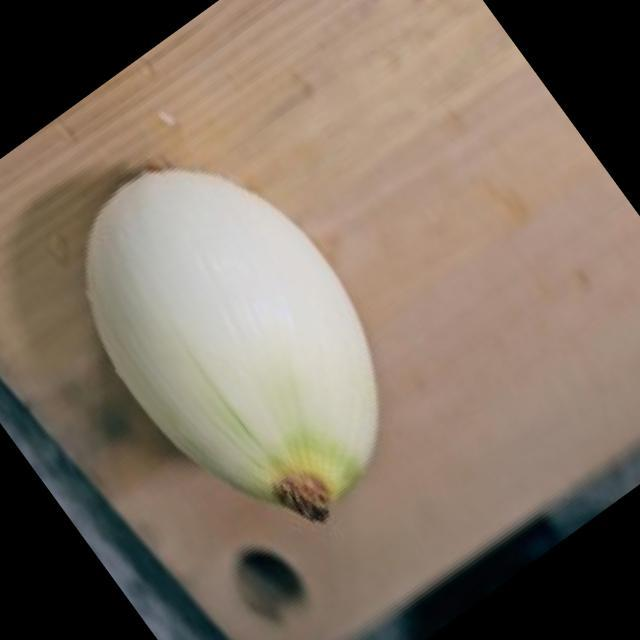Onion: (82, 167, 384, 514)
